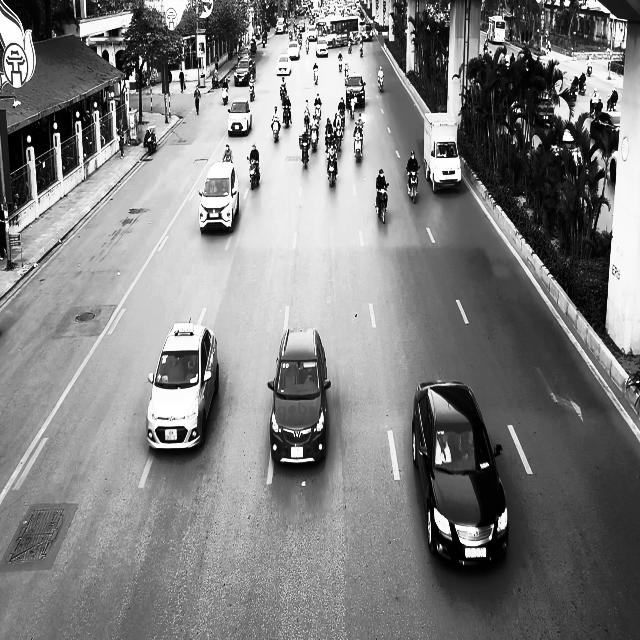bus: (315, 15, 360, 47), (486, 15, 506, 44)
car: (411, 380, 509, 567), (146, 320, 219, 450), (267, 326, 331, 465), (198, 160, 239, 233), (590, 111, 620, 146), (227, 100, 251, 136), (533, 96, 555, 127), (346, 73, 365, 108), (276, 54, 292, 75), (287, 41, 300, 60), (316, 37, 328, 57)
motorbike: (375, 184, 389, 223), (406, 166, 420, 203), (246, 156, 260, 190), (353, 125, 364, 163), (299, 135, 310, 169), (326, 153, 337, 187), (282, 102, 291, 128), (271, 118, 280, 142), (349, 94, 356, 119), (249, 80, 255, 102), (222, 83, 228, 105), (377, 75, 384, 92), (313, 67, 319, 85), (359, 43, 363, 57)
truck: (423, 112, 462, 194)
